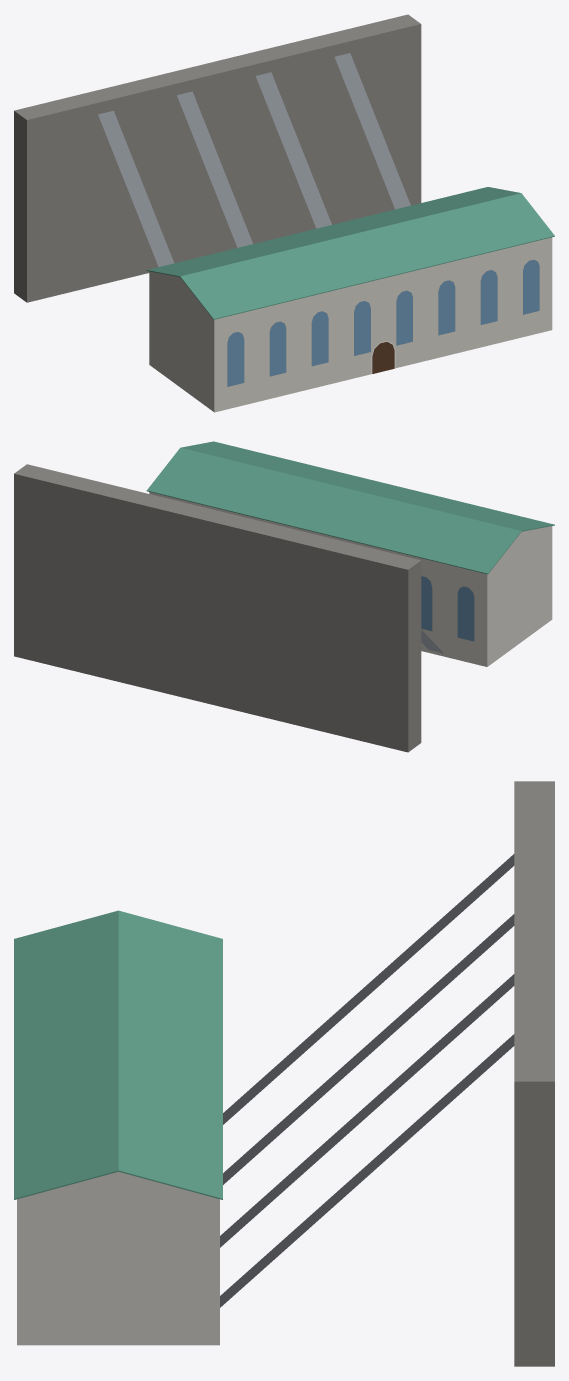
The model's file is barrage_usine.glb.
The picture shows the model from 3 angles, top to bottom: view 1: azimuth 30°, elevation 25°; view 2: azimuth 150°, elevation 25°; view 3: azimuth 270°, elevation 25°; orthographic projection. The views are drawn at different scales.
Visible parts, largest first — view 1: barrage_usine; view 2: barrage_usine; view 3: barrage_usine.
Boxes of the visible parts, x1=… form: barrage_usine: x1=14, y1=14, x2=554, y2=412; barrage_usine: x1=14, y1=441, x2=554, y2=752; barrage_usine: x1=14, y1=781, x2=554, y2=1366.
Bounding box in the file's own units: 70 × 31 × 53.3.
1 material, 1 textured.
